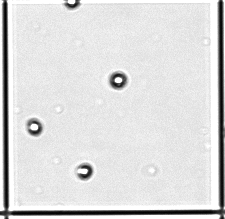Living Cell: (109, 70, 128, 90), (75, 162, 94, 180), (27, 117, 43, 136), (62, 1, 80, 10)
